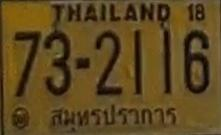1: (162, 28, 170, 93), (133, 29, 141, 94)
2: (94, 30, 120, 96)
3: (43, 30, 70, 94)
6: (182, 29, 208, 93)
7: (12, 30, 40, 96)
SPK: (48, 101, 179, 135)
